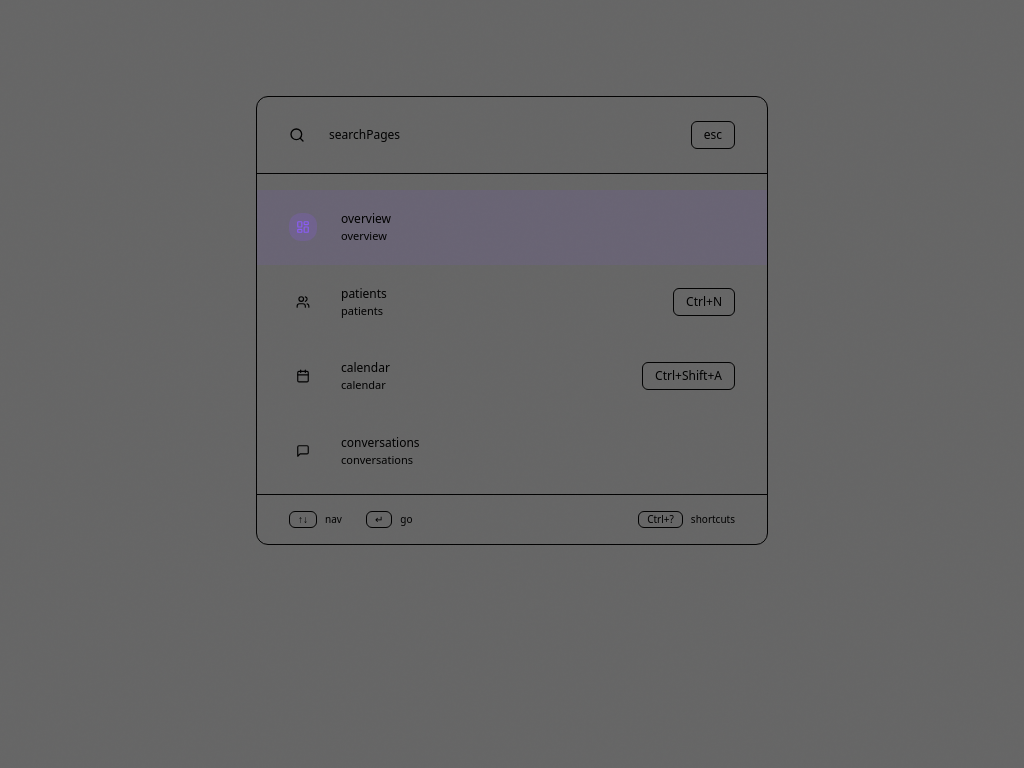
CommandPalette › shows clear button when query is non-empty
Type "test" into the field with placeholder "searchPages".
click(498, 135); type("test")  # box [329,127,667,143]
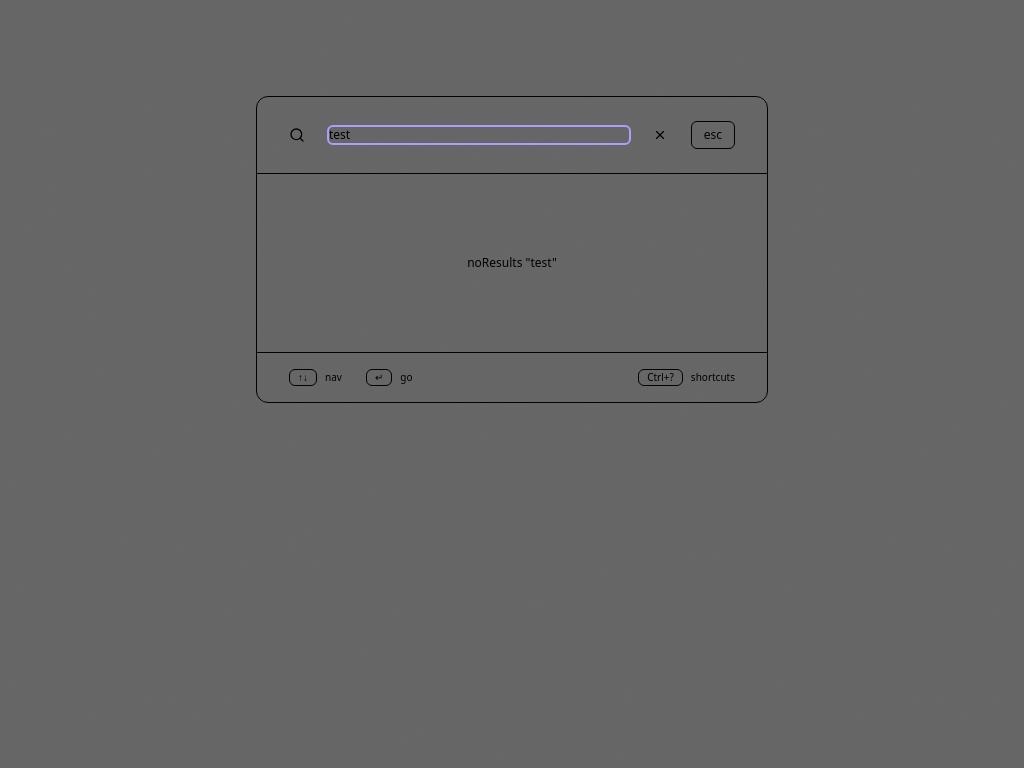
Expected: the button named "close" is shown, [653,128,667,142]
